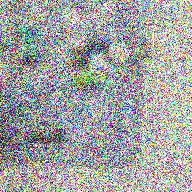러키펜정: (107, 44, 131, 63)
씨엠지세파클러캡슐: (67, 38, 111, 51)
에르도캡슐: (17, 26, 39, 60)
휴티렌정: (71, 72, 106, 88)
